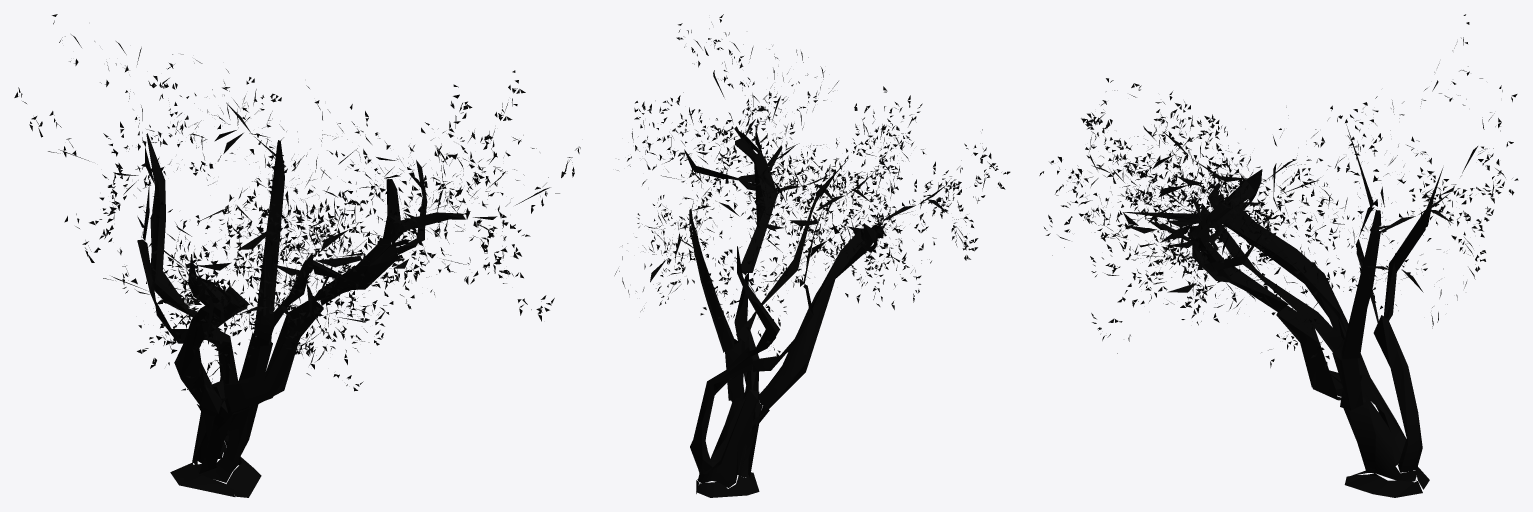
The model's file is Broad_Round_B.glb.
3 views of the same model, side by side, from view 1: azimuth 30°, elevation 25°; view 2: azimuth 150°, elevation 25°; view 3: azimuth 270°, elevation 25° (orthographic). The views are drawn at different scales.
Parts seen in each view (by area): view 1: tree; view 2: tree; view 3: tree.
Boxes of the visible parts, bbox=[...] form: tree: bbox=[14, 14, 580, 497]; tree: bbox=[614, 14, 1010, 497]; tree: bbox=[1039, 14, 1518, 497].
Size of the model in its own units: 3.34 by 3.82 by 3.99.
1 material, 1 textured.
